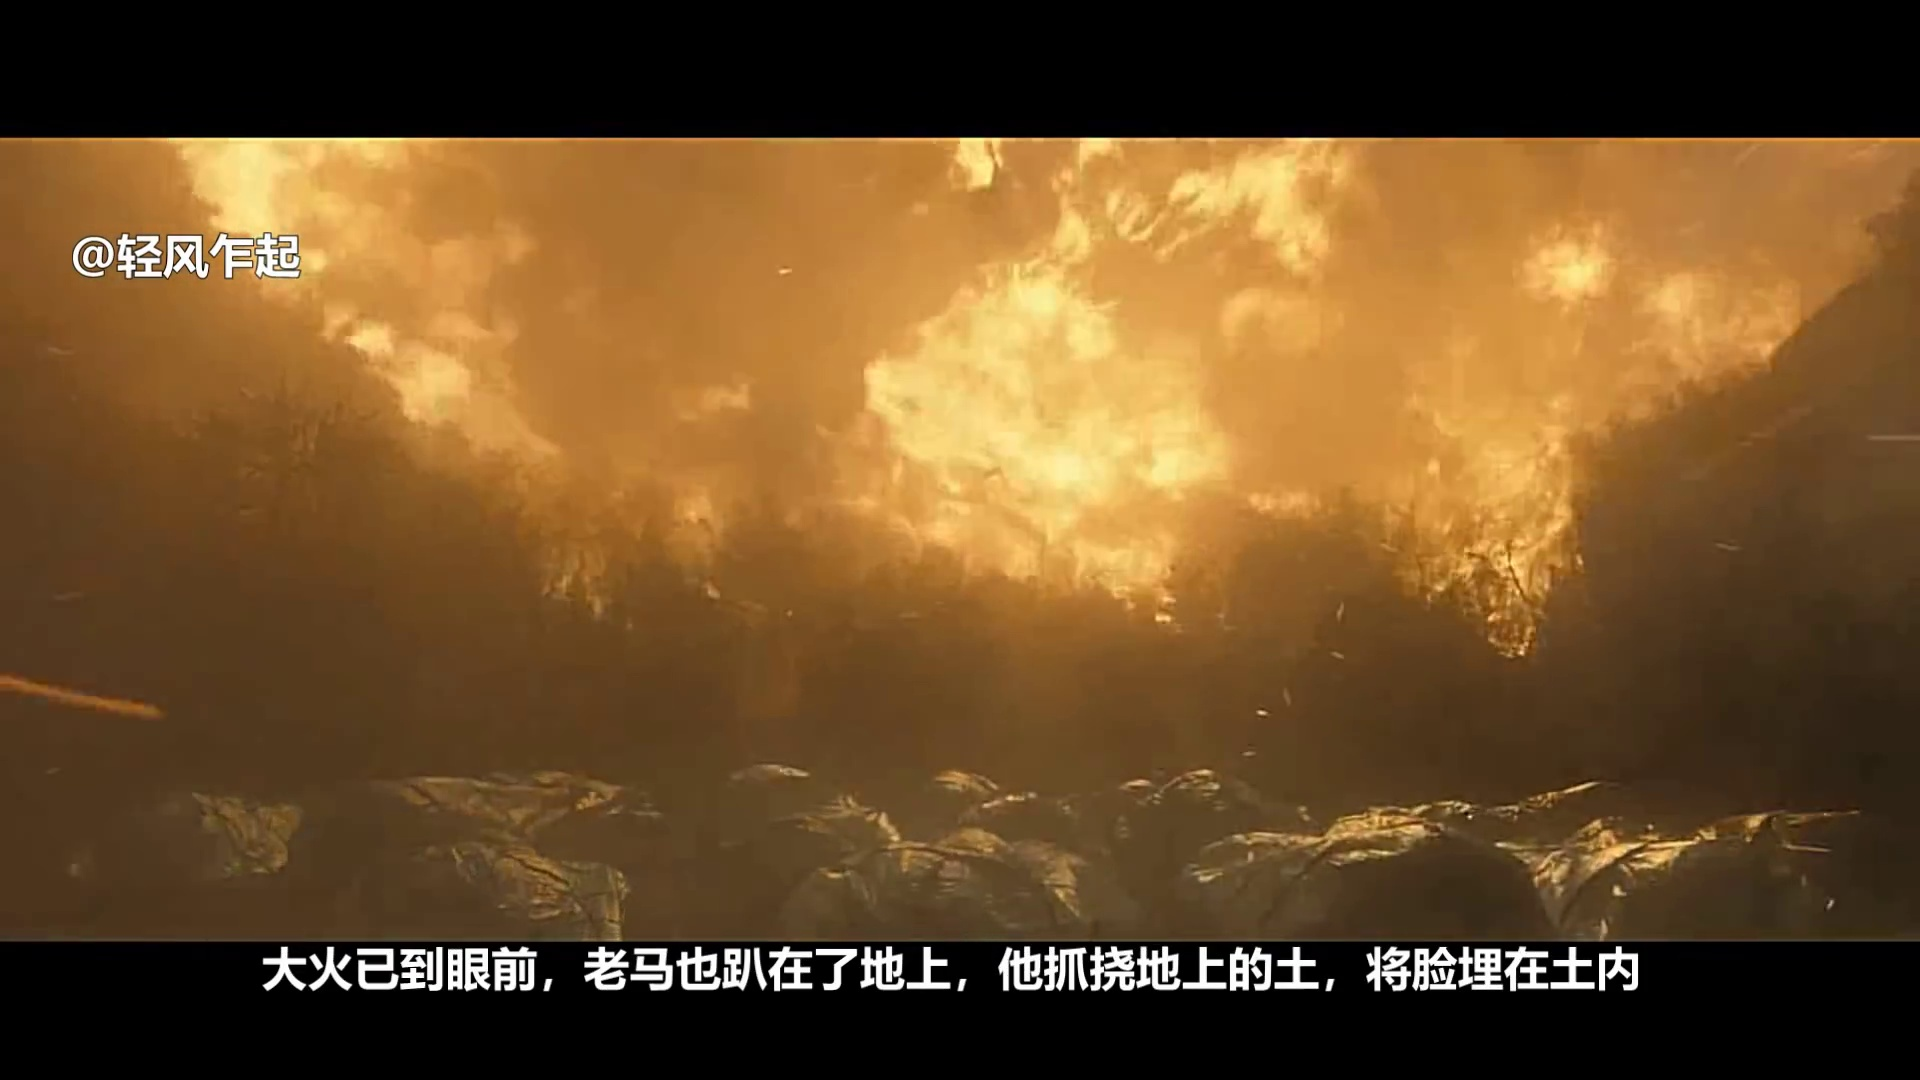fire: (864, 257, 1213, 593), (1062, 141, 1341, 253), (1414, 425, 1582, 603), (179, 141, 415, 231), (338, 313, 522, 415), (1664, 270, 1774, 369), (1532, 214, 1617, 305), (953, 135, 1006, 187)
